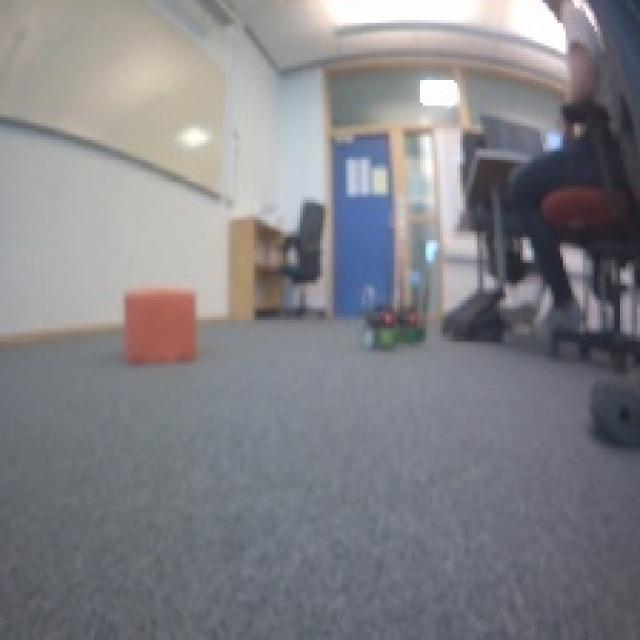robot: (360, 304, 402, 352), (393, 305, 431, 348)
target: (120, 283, 197, 363)
